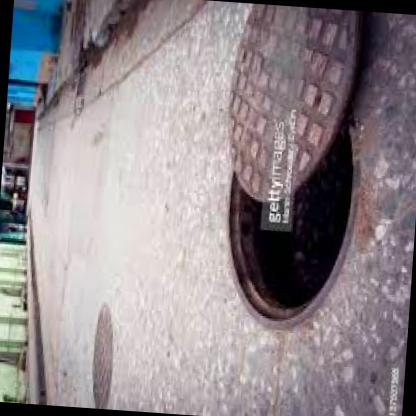manholes: (171, 0, 395, 371), (66, 282, 136, 408)
